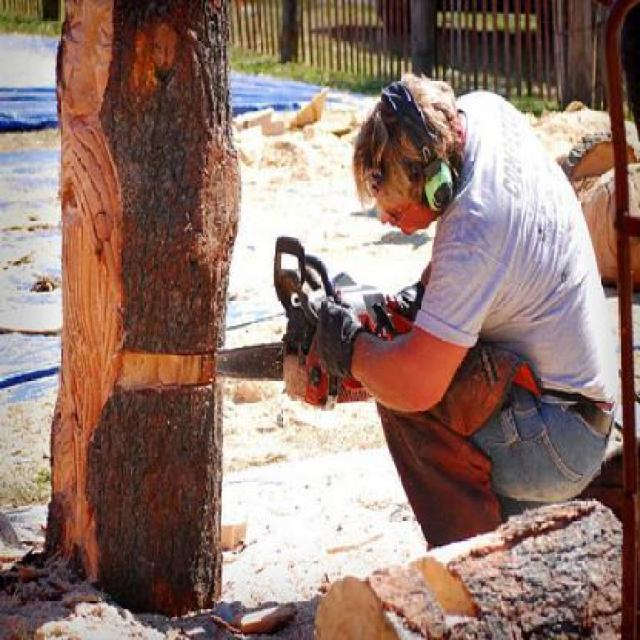Chainsaw: (217, 232, 417, 423)
